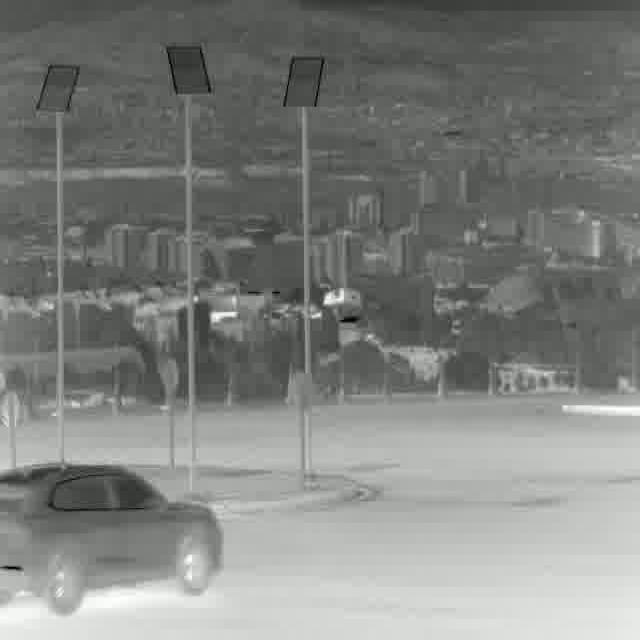Car: (0, 462, 225, 614)
